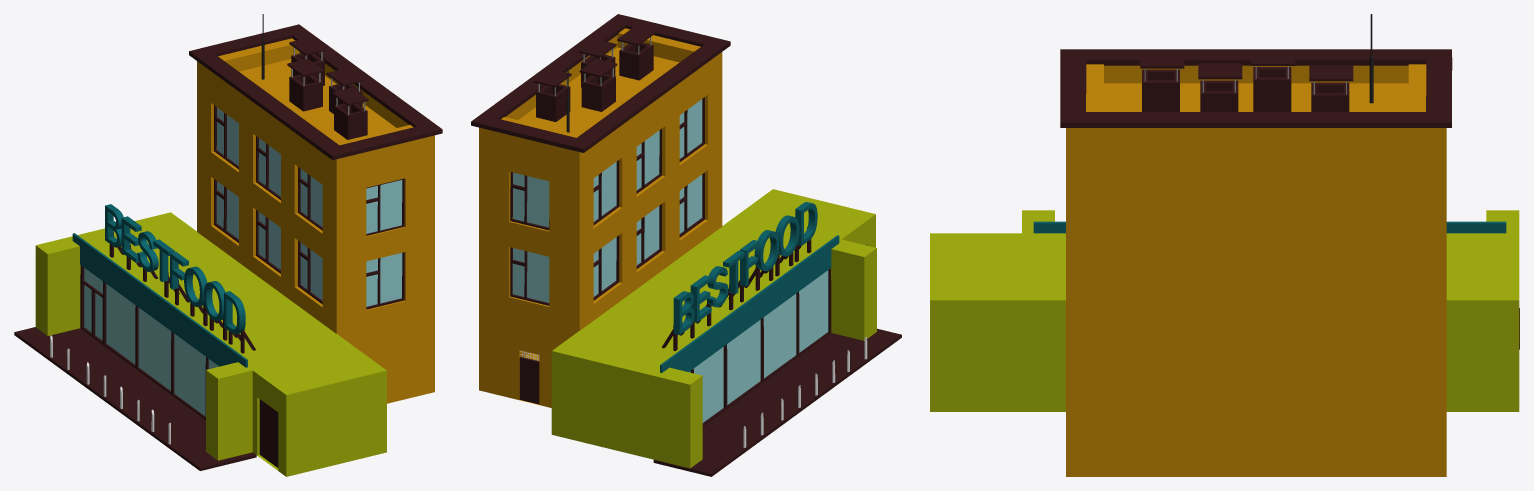
Rendered from cartoon_builds.FBX.
3 views of the same model, side by side, from view 1: azimuth 30°, elevation 25°; view 2: azimuth 150°, elevation 25°; view 3: azimuth 270°, elevation 25° (orthographic). The views are drawn at different scales.
Visible parts, largest first — view 1: Box001, Box002, Box082, Plane009, Text001, Box078, Box050, Box051, Box079, Plane011, Plane010, Box052 (+11 smaller); view 2: Box001, Box002, Box082, Plane009, Text001, Box078, Box050, Box051, Plane008, Plane007, Box079, Box053 (+13 smaller); view 3: Box001, Box002, Box051, Box050, Box066, Box054, Box053, Box052, Box060, Box078, Box072, Box059 (+3 smaller).
Boxes of the visible parts, box(x1,y1,x2,y2) form: Box001: box(197, 38, 434, 403); Box002: box(35, 212, 386, 476); Box082: box(14, 327, 256, 470); Plane009: box(84, 268, 218, 416); Text001: box(105, 204, 245, 334); Box078: box(72, 233, 247, 367); Box050: box(189, 47, 348, 160); Box051: box(283, 24, 442, 135); Box079: box(80, 265, 208, 419); Plane011: box(366, 180, 402, 233); Plane010: box(366, 253, 402, 306); Box052: box(336, 125, 433, 157); Box001: box(479, 28, 722, 407); Box002: box(551, 189, 876, 468); Box082: box(653, 328, 901, 476); Plane009: box(689, 270, 828, 422); Text001: box(673, 202, 817, 335); Box078: box(660, 235, 839, 372); Box050: box(567, 38, 730, 152); Box051: box(471, 14, 634, 127); Plane008: box(512, 248, 549, 302); Plane007: box(513, 172, 549, 227); Box079: box(690, 268, 831, 426); Box053: box(480, 117, 575, 150); Box001: box(1066, 64, 1446, 476); Box002: box(930, 210, 1519, 411); Box051: box(1060, 112, 1451, 127); Box050: box(1060, 49, 1451, 65); Box066: box(1253, 67, 1291, 111); Box054: box(1142, 69, 1179, 111); Box053: box(1426, 57, 1452, 116); Box052: box(1060, 57, 1086, 116); Box060: box(1200, 80, 1238, 111); Box078: box(1033, 221, 1506, 233); Box072: box(1311, 82, 1349, 111); Box059: box(1140, 52, 1184, 68).
Bounding box in the file's own units: 193 × 222 × 278.
